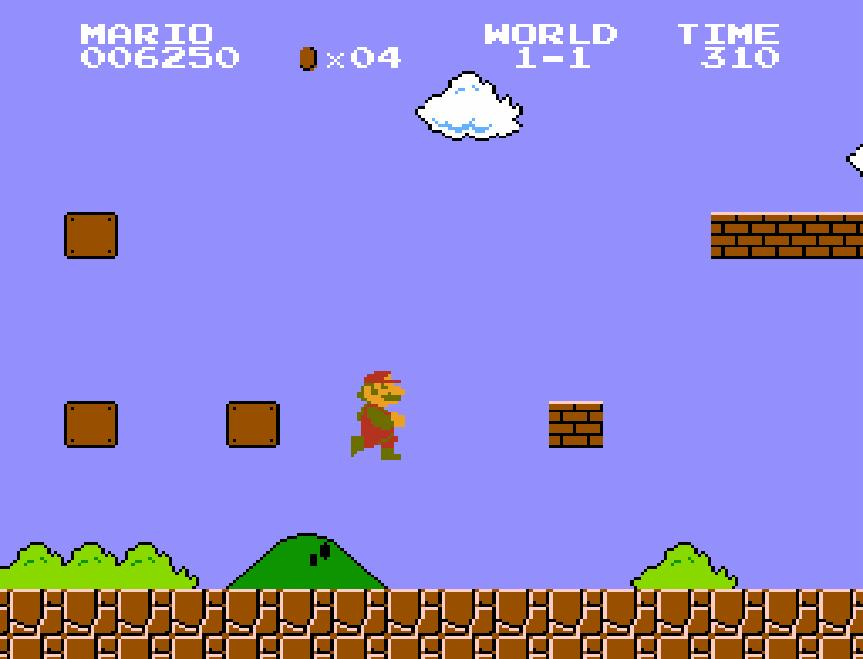big_mario: (348, 363, 406, 461)
